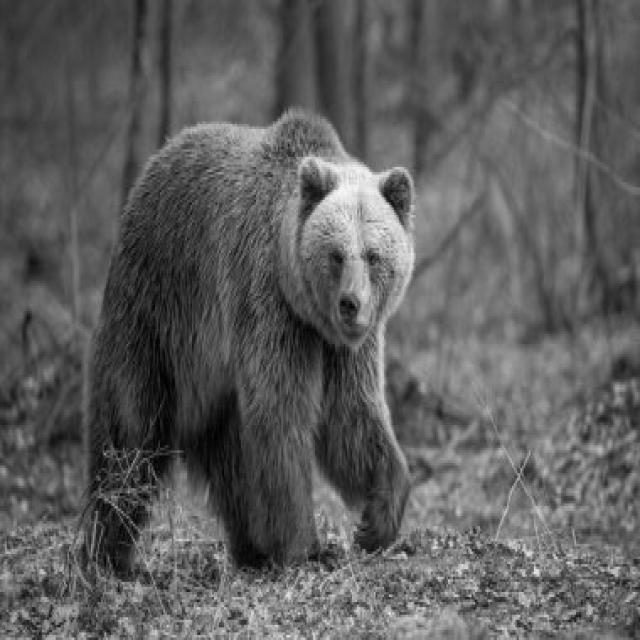Animal: (84, 110, 412, 572)
